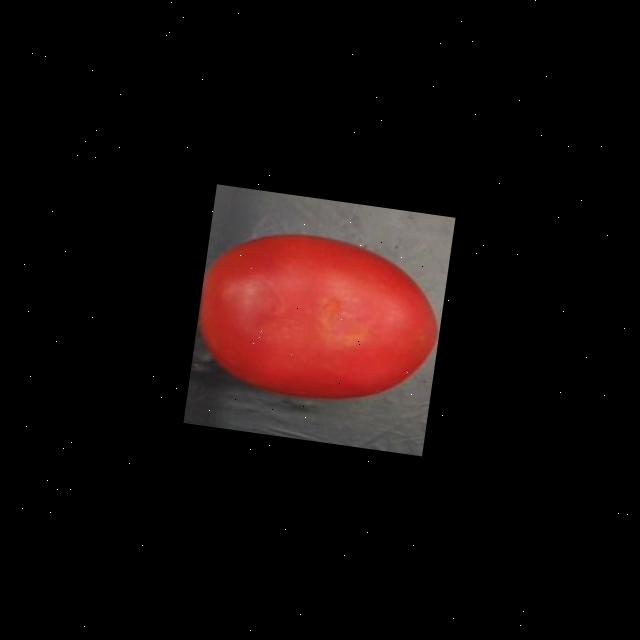tomato: (189, 215, 452, 422)
